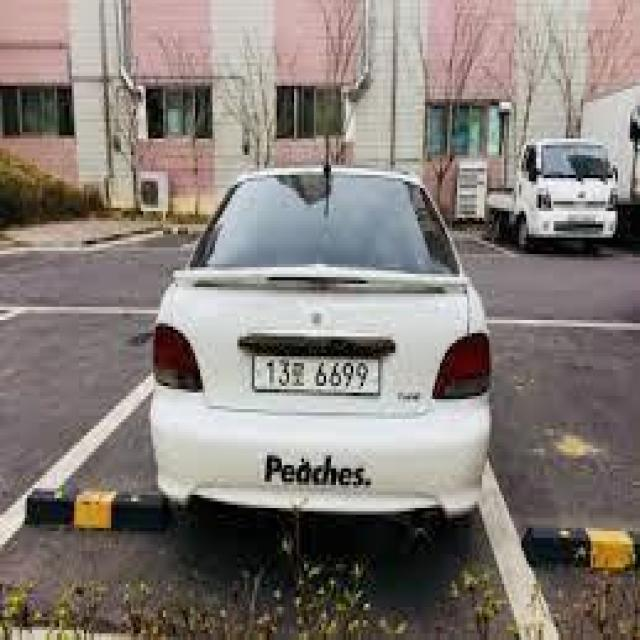car: (142, 150, 496, 565)
illegal_plate: (250, 352, 384, 401)
